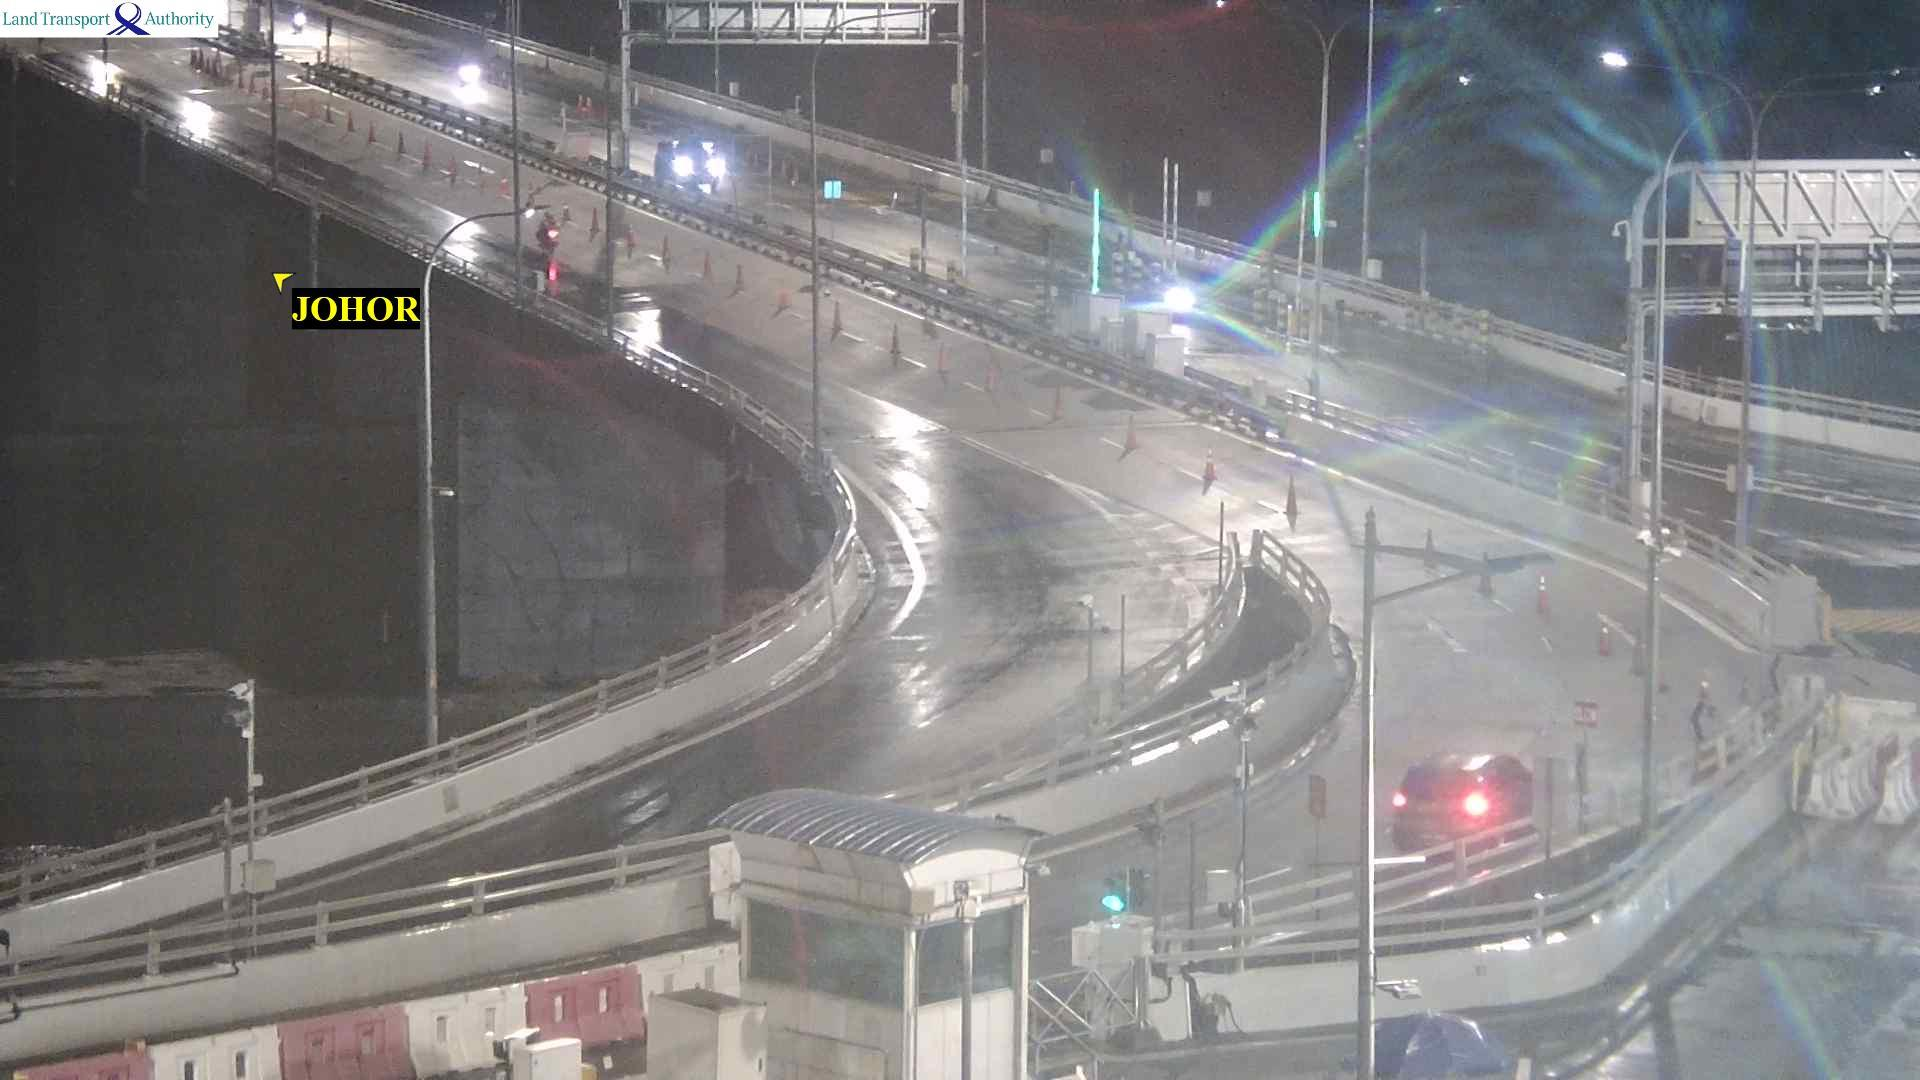vehicle-secondlink-johor: (1387, 740, 1532, 828)
vehicle-secondlink-singapore: (650, 135, 738, 191), (1569, 696, 1607, 732)
